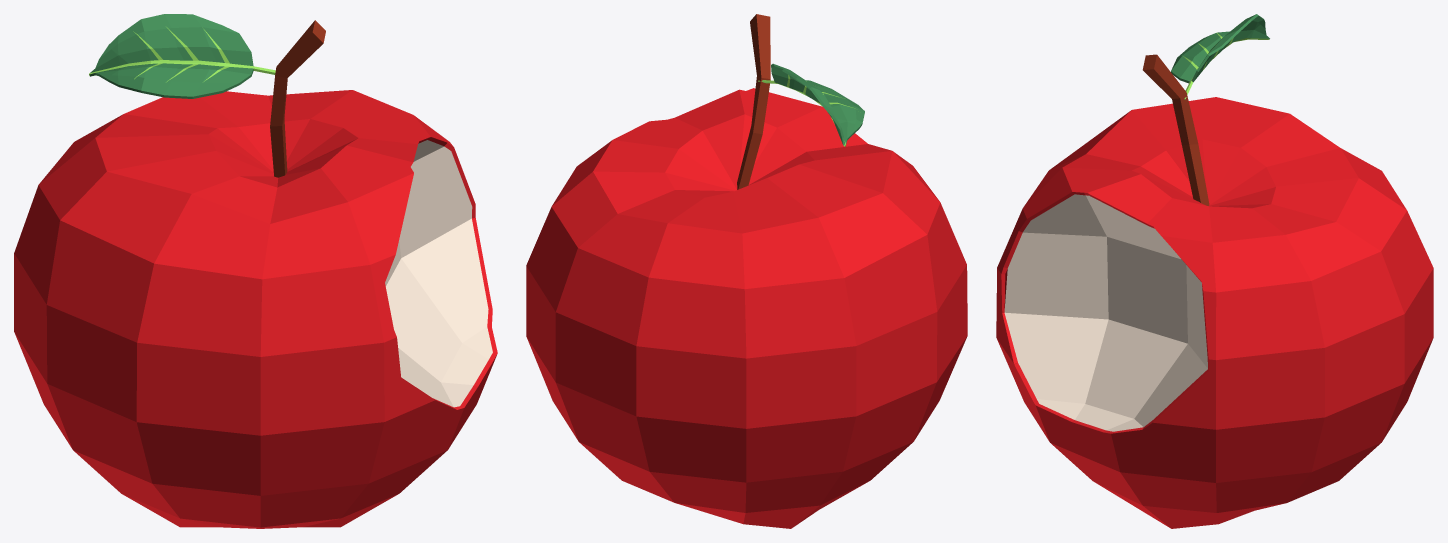
The model's file is apple02-bite.fbx.
3 views of the same model, side by side, from view 1: azimuth 30°, elevation 25°; view 2: azimuth 150°, elevation 25°; view 3: azimuth 270°, elevation 25° (orthographic). The views are drawn at different scales.
Visible parts, largest first — view 1: apple02; view 2: apple02; view 3: apple02.
Boxes of the visible parts, x1,y1,x2,y2 form: apple02: [14, 14, 497, 528]; apple02: [526, 14, 967, 528]; apple02: [996, 14, 1433, 528].
Size of the model in its own units: 69.88 by 79.98 by 70.05.
